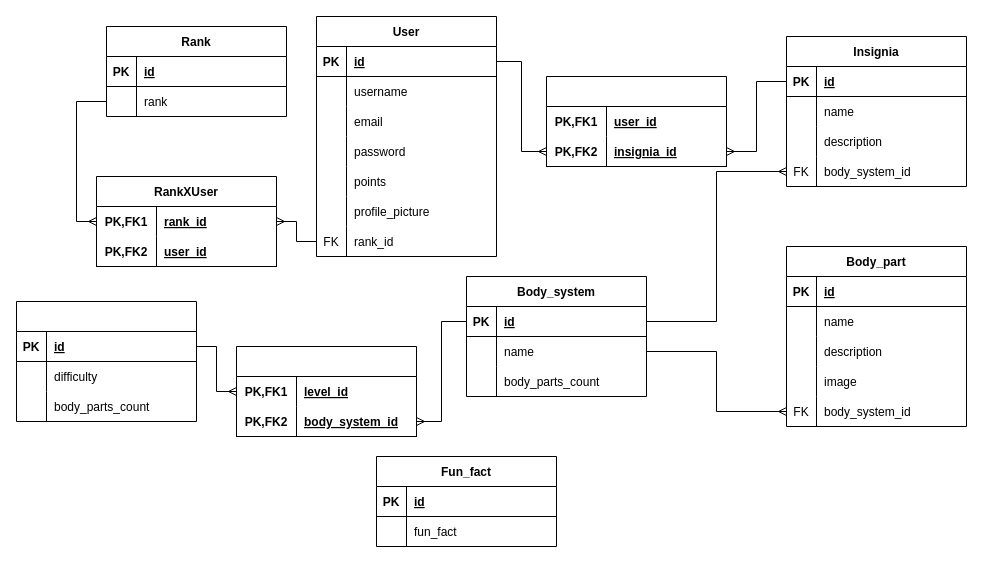
The diagram is 983 pixels wide and 563 high, and some of its shapes have lost their labels. The shapes that lost their labels are listed below. From the top down, each one's box as (x1, y1, x2, y2) in pixels, then its label:
(546, 76, 726, 166): UserXInsignia
(16, 300, 196, 422): Level
(236, 346, 416, 436): LevelXBody_system
